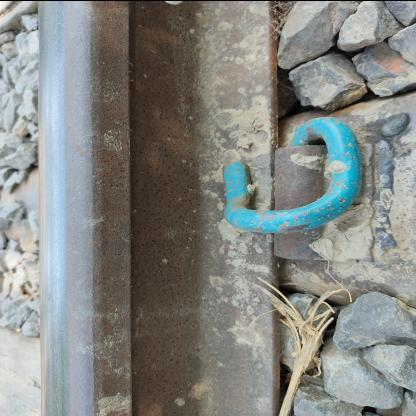Non Defective 1: (197, 70, 406, 294)
